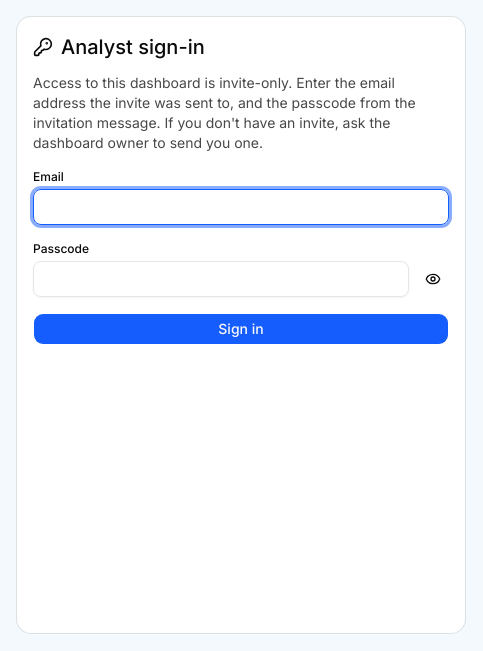
Scenario: ShareLoginPage › shows lockout countdown on 429
Type "jane@example.com" into the field labelled "Email" at {"x": 241, "y": 207}, box left=33, top=189, right=449, bottom=225
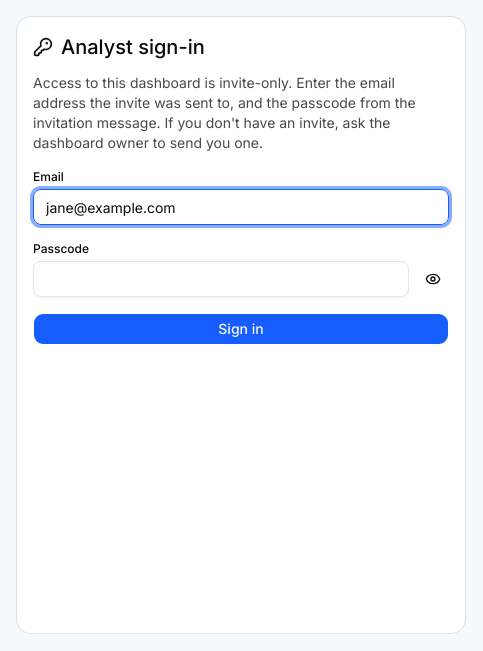
Type "x" into the password field labelled "Passcode" at {"x": 221, "y": 279}, box left=33, top=261, right=409, bottom=297
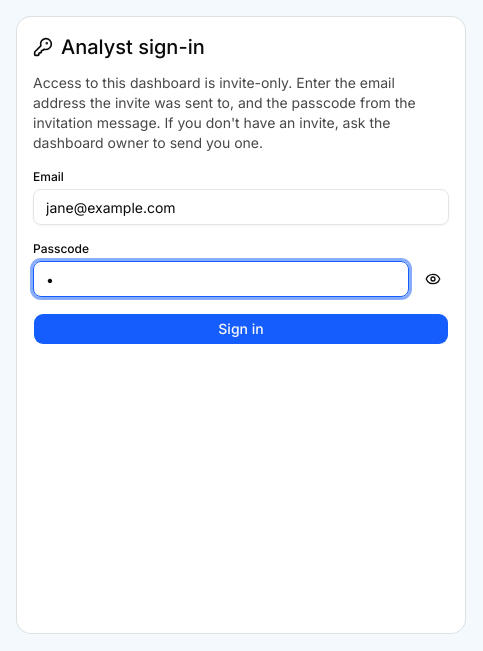
Click the button "Sign in" at {"x": 241, "y": 329}, box left=33, top=313, right=449, bottom=345
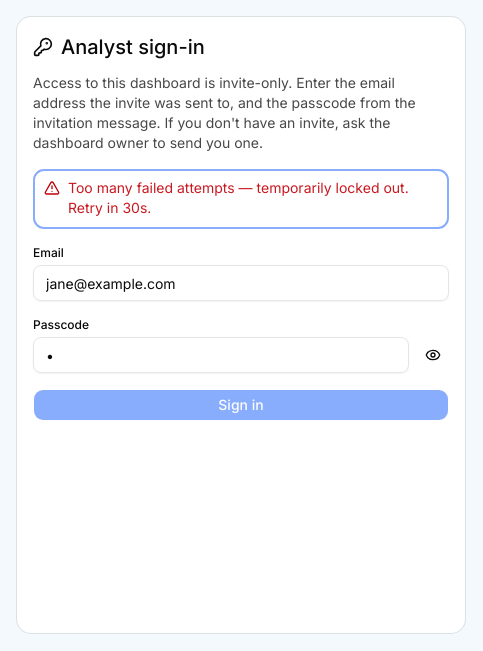
Expected: the text "locked out" is shown, left=68, top=179, right=409, bottom=196
Expected: the text "Retry in 30s" is shown, left=68, top=199, right=151, bottom=216
Expected: the button "Sign in" is disabled, left=33, top=389, right=449, bottom=421
